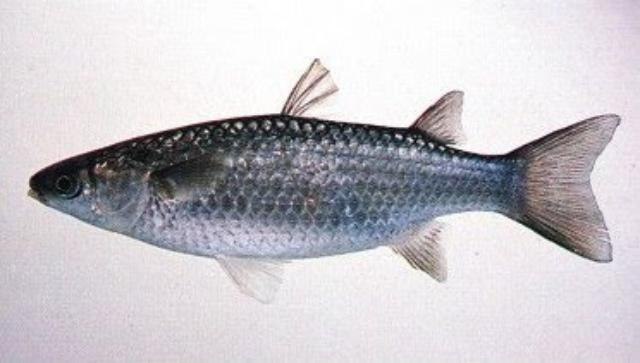Mulut: (20, 163, 58, 221)
Sirip Anal: (387, 214, 459, 292)
Sirip Dada: (151, 148, 233, 206)
Sirip Ekor: (522, 109, 628, 269)
Sirip Perut: (206, 240, 292, 308)
Sirip Punggung: (283, 52, 469, 158)
